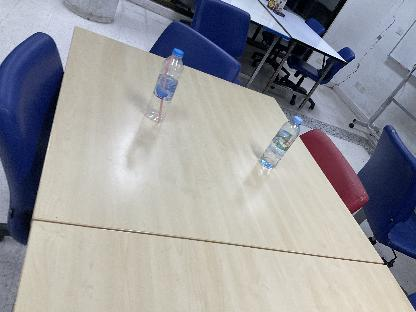Plastic Bottle: (146, 47, 184, 123), (260, 114, 302, 170)
